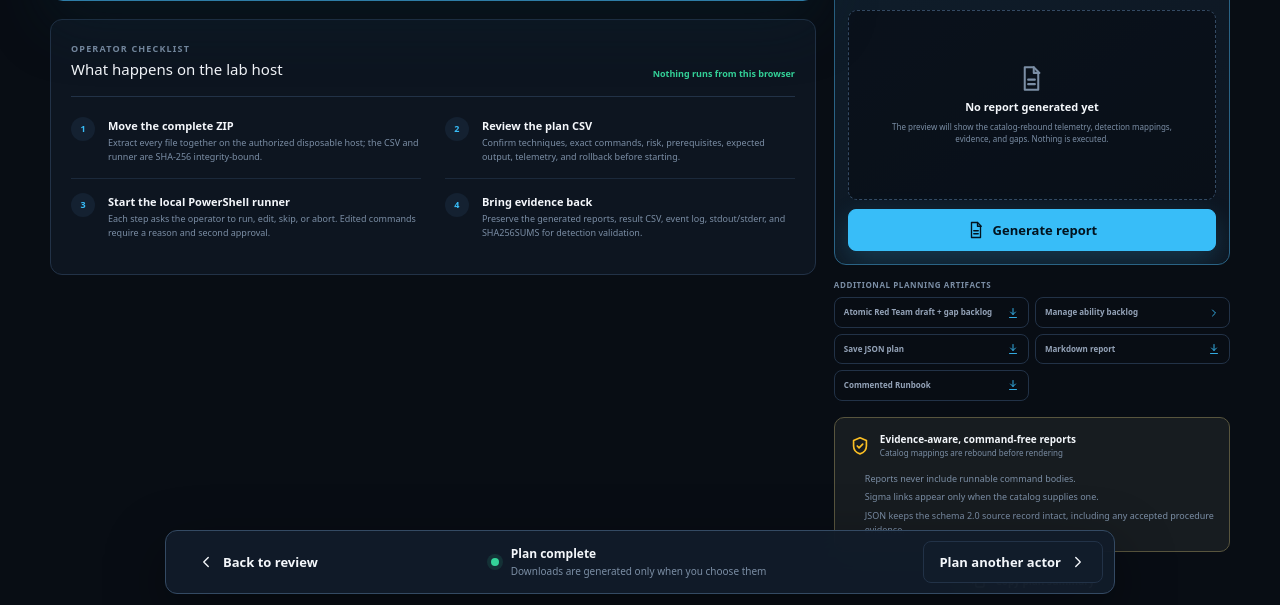
Test: ExportScreen report generation › preserves later backlog edits when an earlier save response arrives
The image size is (1280, 605).
(page scrolled)
Click the button "Manage ability backlog" at point(1132, 313), box [1035,298,1230,328]
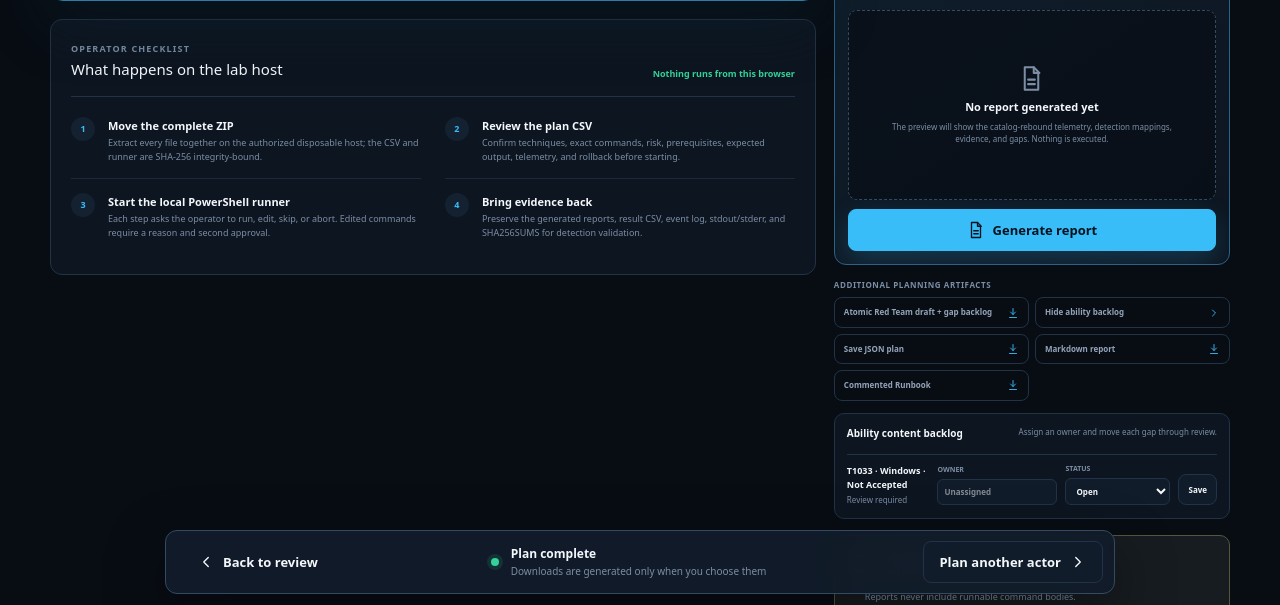
Type "First owner" into the field labelled "Owner" at point(998, 492), box [938,479,1058,505]
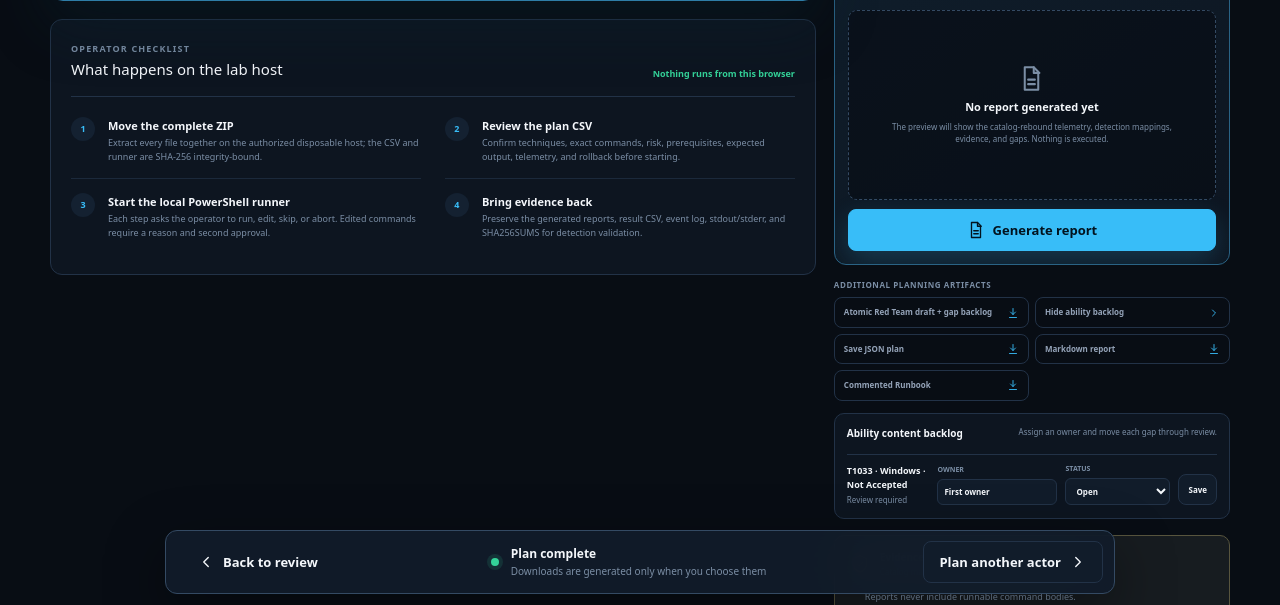
Click the button "Save" at point(1198, 490), box [1178,474,1217,505]
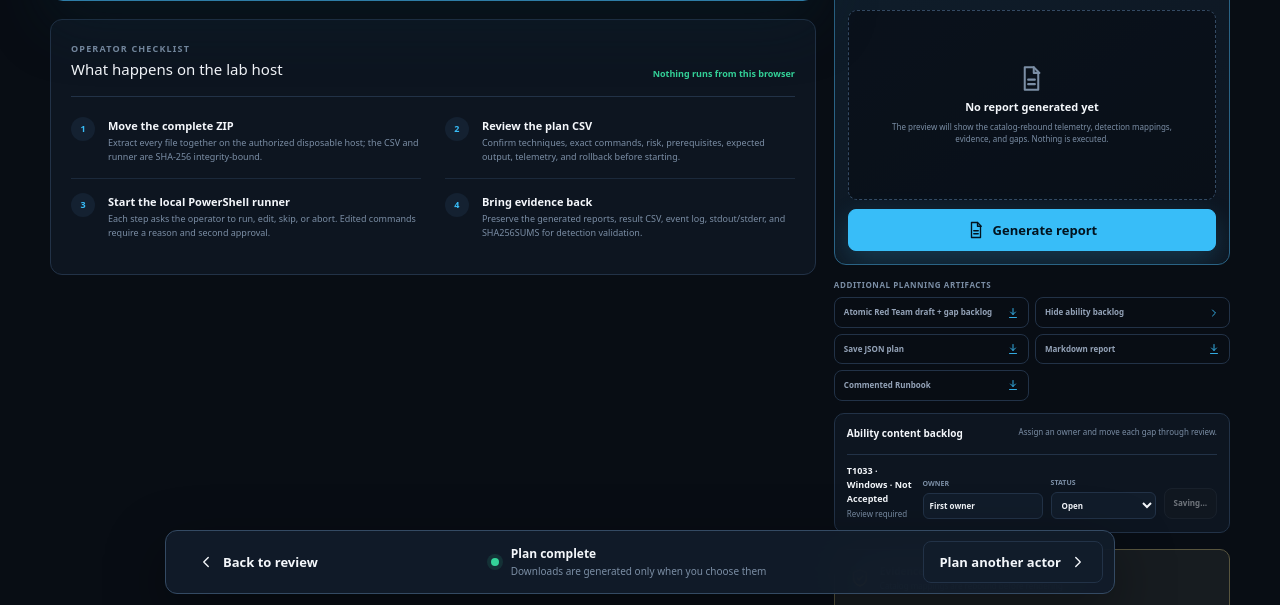
Replace the text in the field labelled "Owner" with "Newer draft owner" at point(983, 506), box [923,493,1043,519]
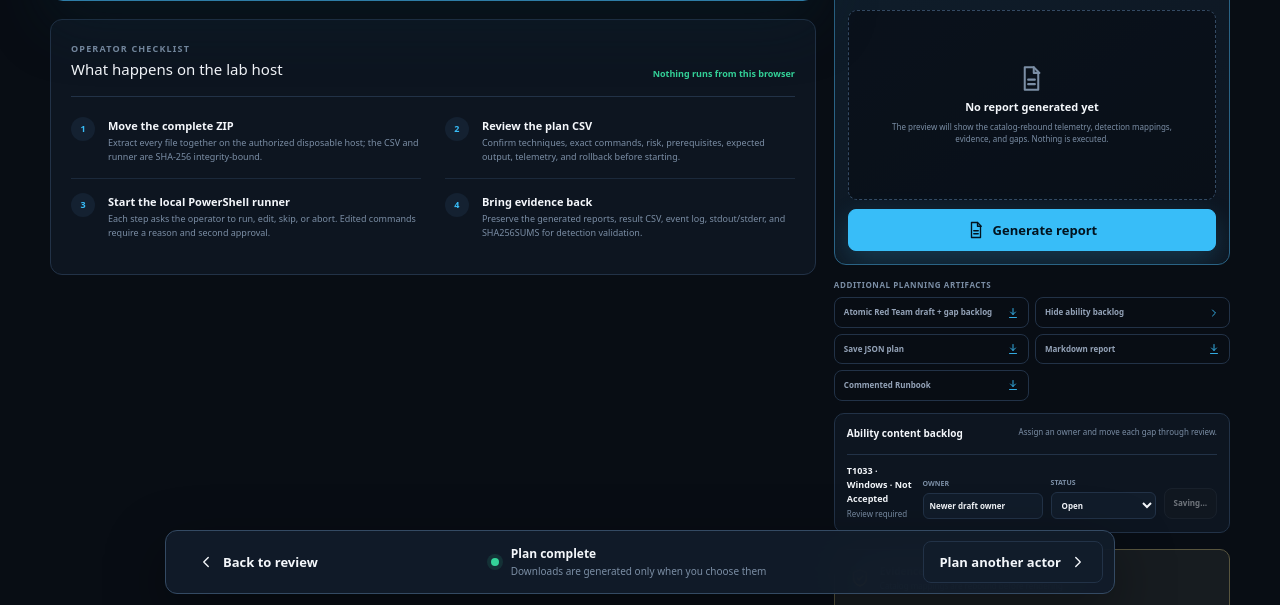
Select "In progress" in the dropdown labelled "Status" at point(1103, 506), box [1051,492,1156,519]
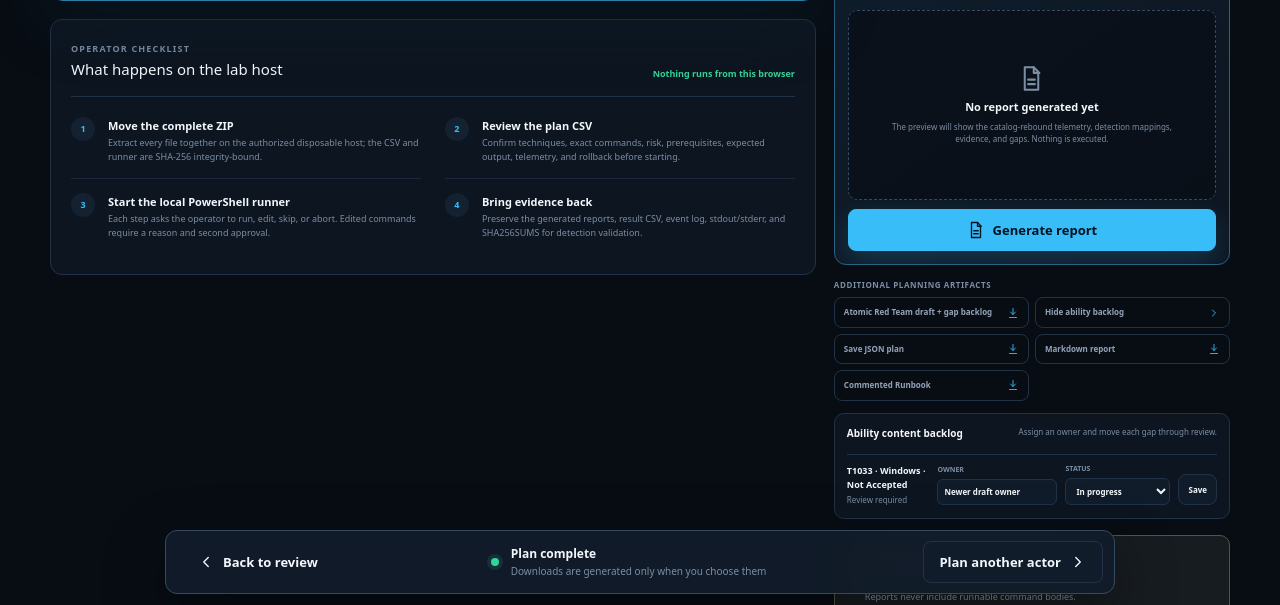
expect the button "Save" is enabled: met, box [1178,474,1217,505]
